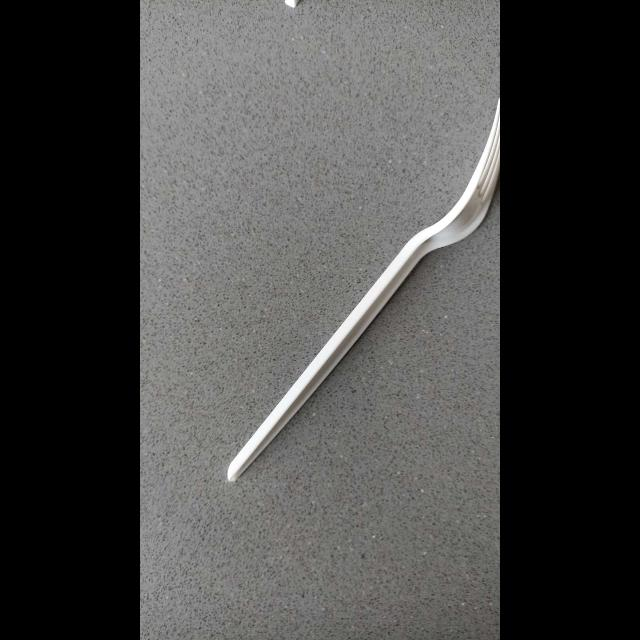plastic_cultery: (218, 90, 500, 538)
